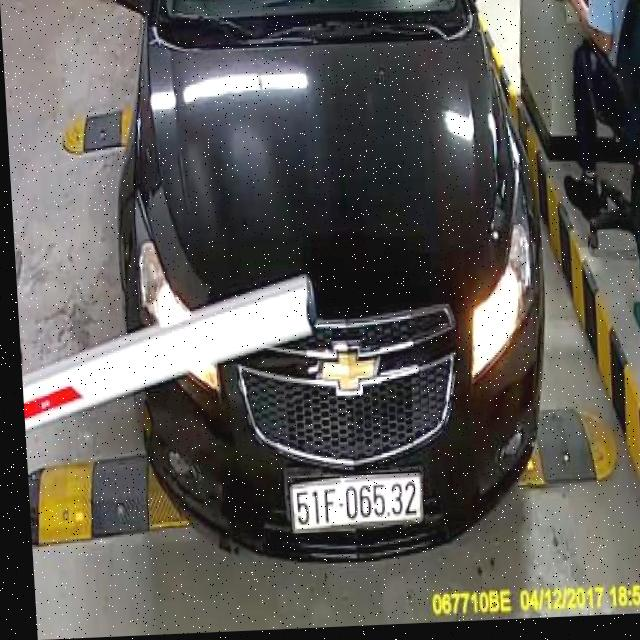car: (96, 0, 579, 584)
plate: (285, 470, 425, 540)
